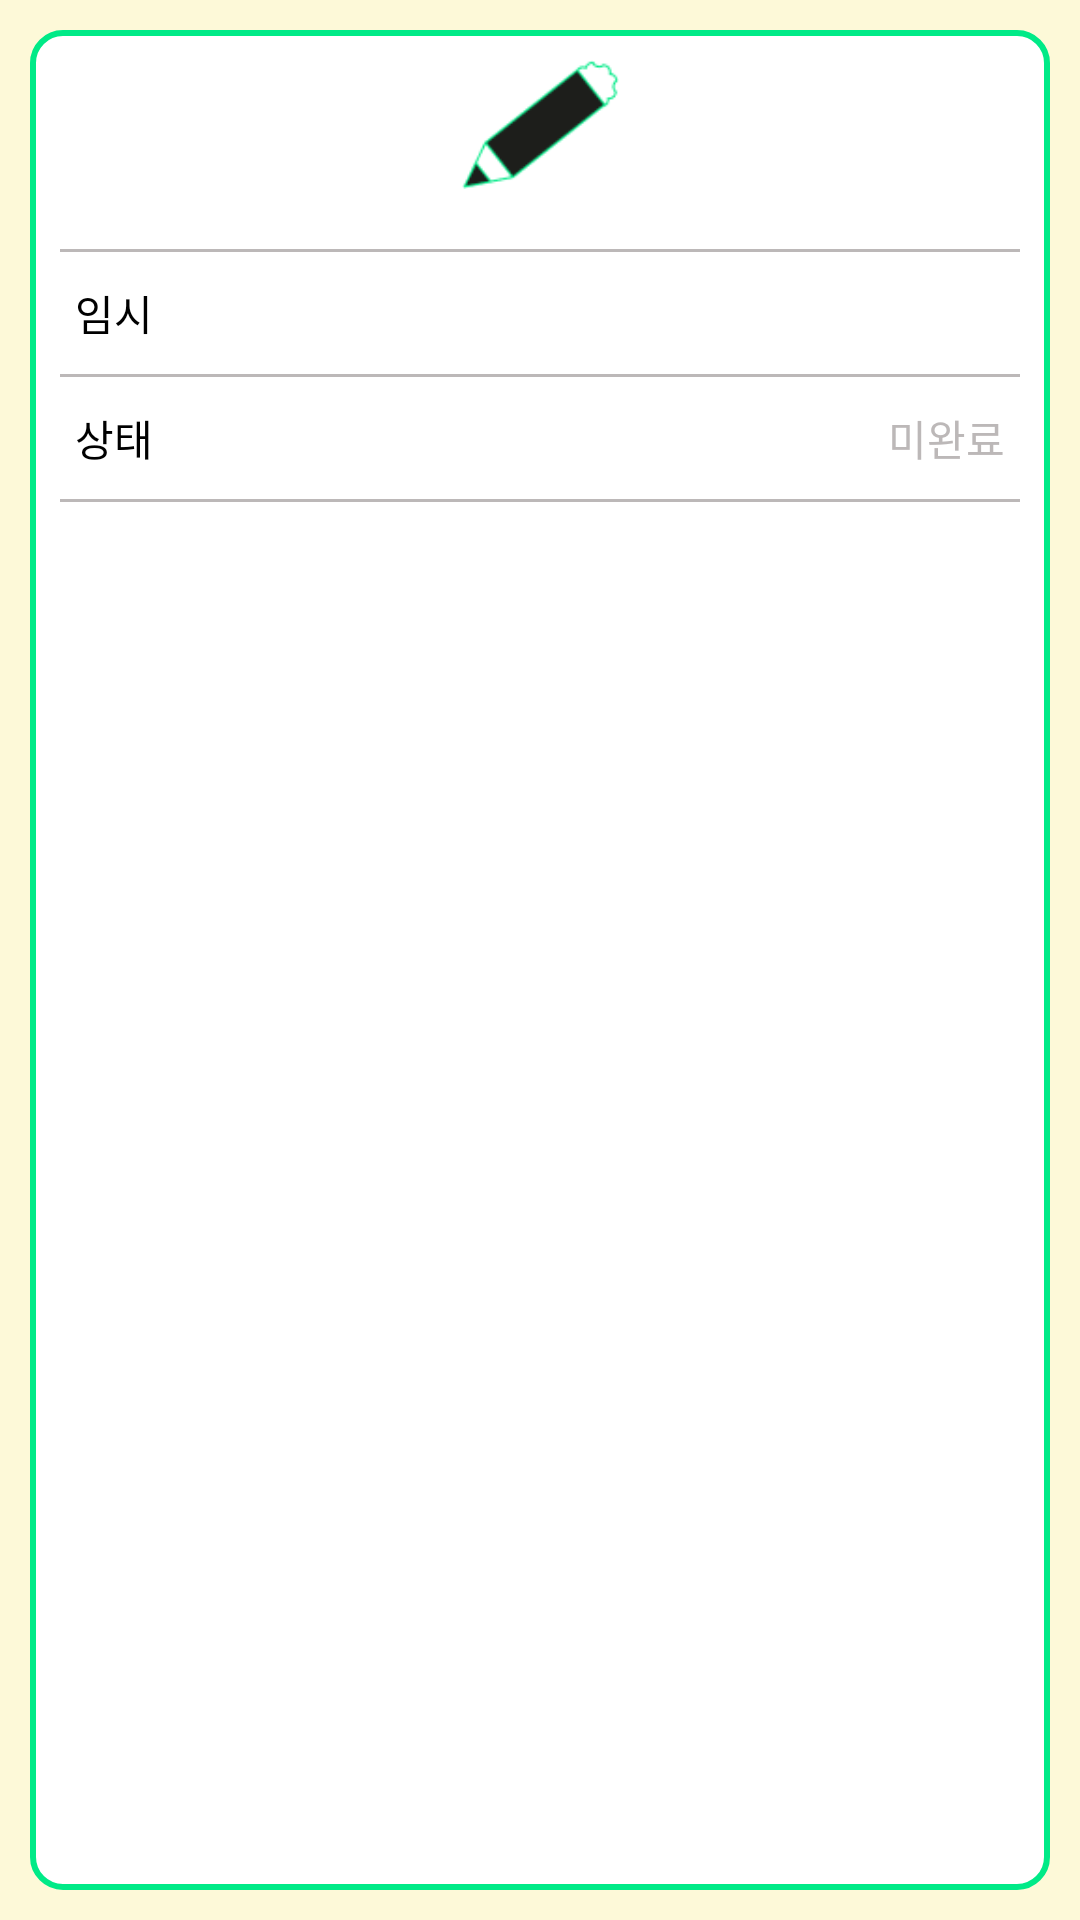

Named icons in this screenshot (1080px x 1920px) and their bounding boxes, (x1,y1,x2,y2):
pencil: (462,61,619,189)
